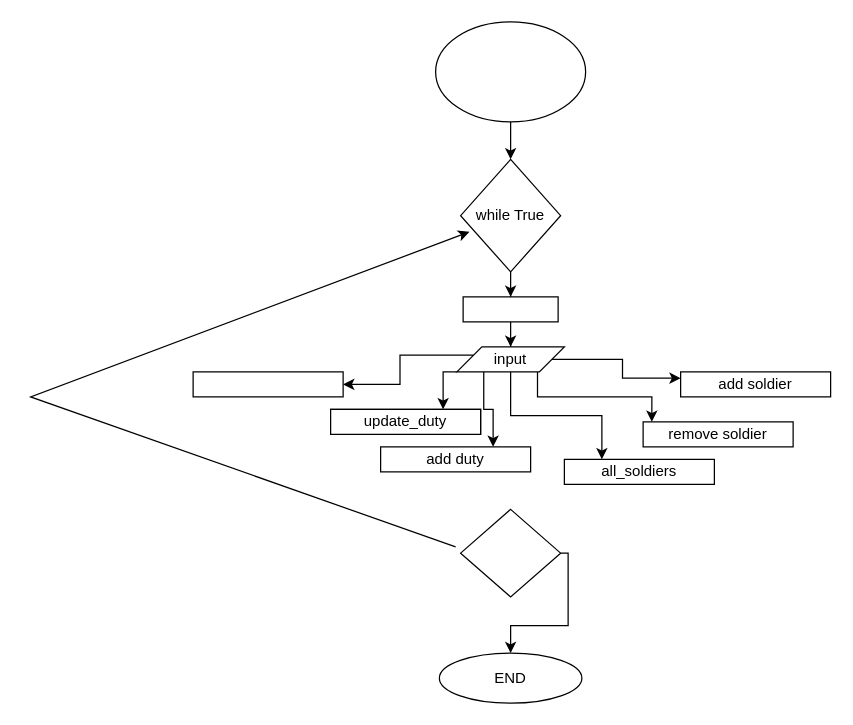
Some shapes in this 853 by 725 pixel diagram are drawn without their labels. The shapes that lost their labels are listed below. From the top down, each one's centre as x and y in pixels, then its label:
At [510,71]: "START".
At [510,309]: "menu".
At [267,384]: "show_duties".
At [510,552]: "if exit".
